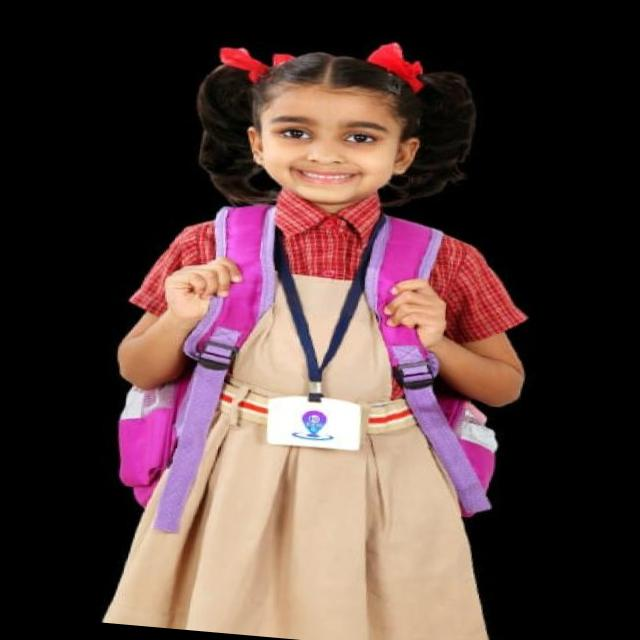id_card: (254, 198, 396, 452)
